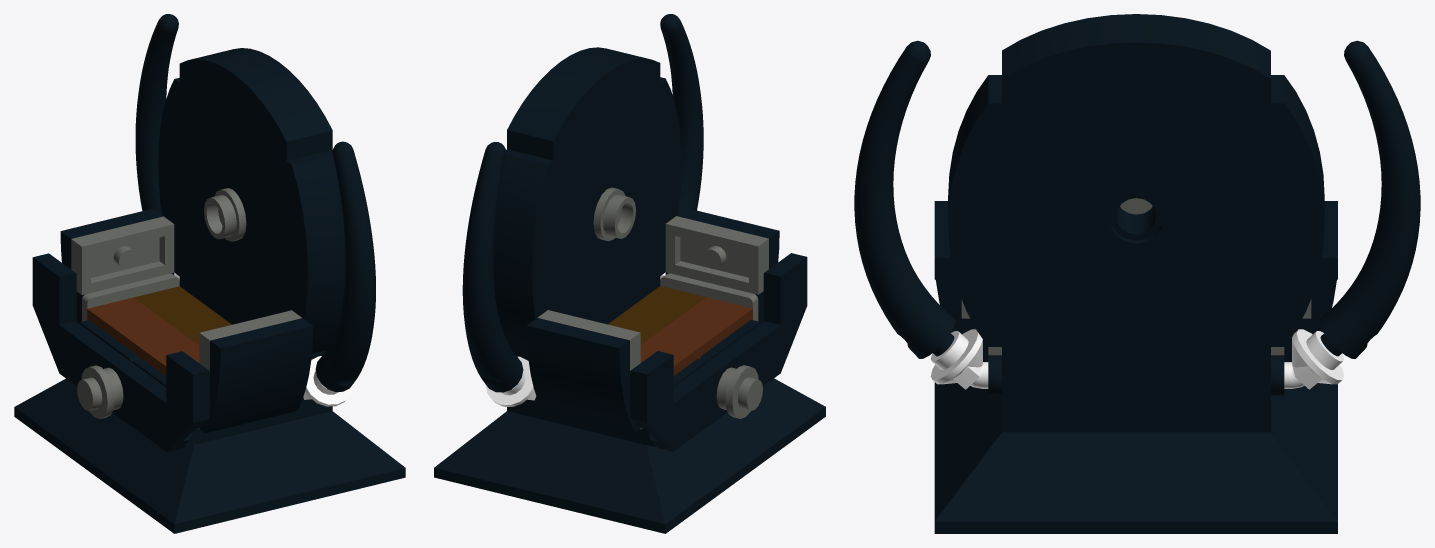
Rendered from wakanda-throne2.glb.
The picture shows the model from 3 angles, left to right: view 1: azimuth 30°, elevation 25°; view 2: azimuth 150°, elevation 25°; view 3: azimuth 270°, elevation 25°; orthographic projection. The views are drawn at different scales.
Parts seen in each view (by area): view 1: wakanda-throne; view 2: wakanda-throne; view 3: wakanda-throne.
Part boxes in pixels (x1,y1,x2,y2): wakanda-throne: (14,14,405,533); wakanda-throne: (434,14,825,533); wakanda-throne: (854,14,1420,533).
Bounding box in the file's own units: 104 × 152 × 168.
